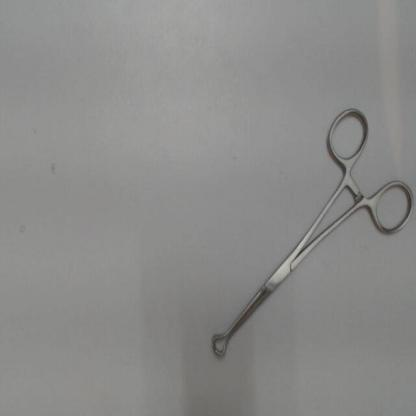Babcock Tissue Forceps: (208, 105, 415, 363)
